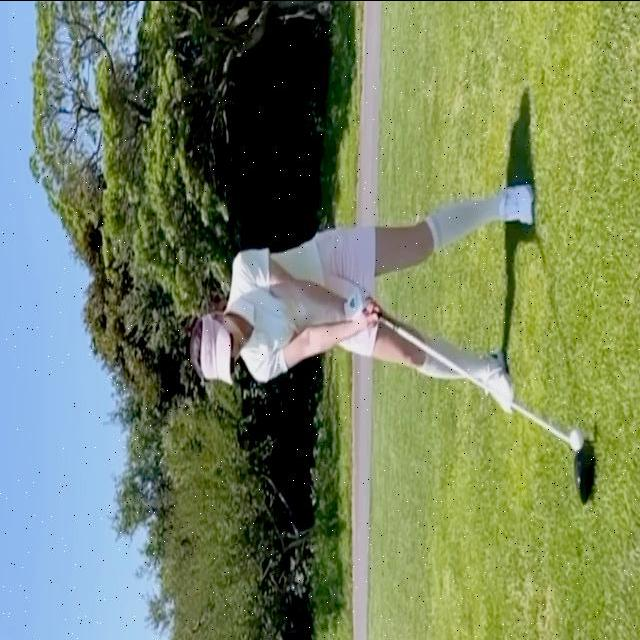ClubHandle: (358, 300, 598, 509)
ClubHead: (575, 441, 595, 503)
GolfBall: (569, 424, 584, 450)
